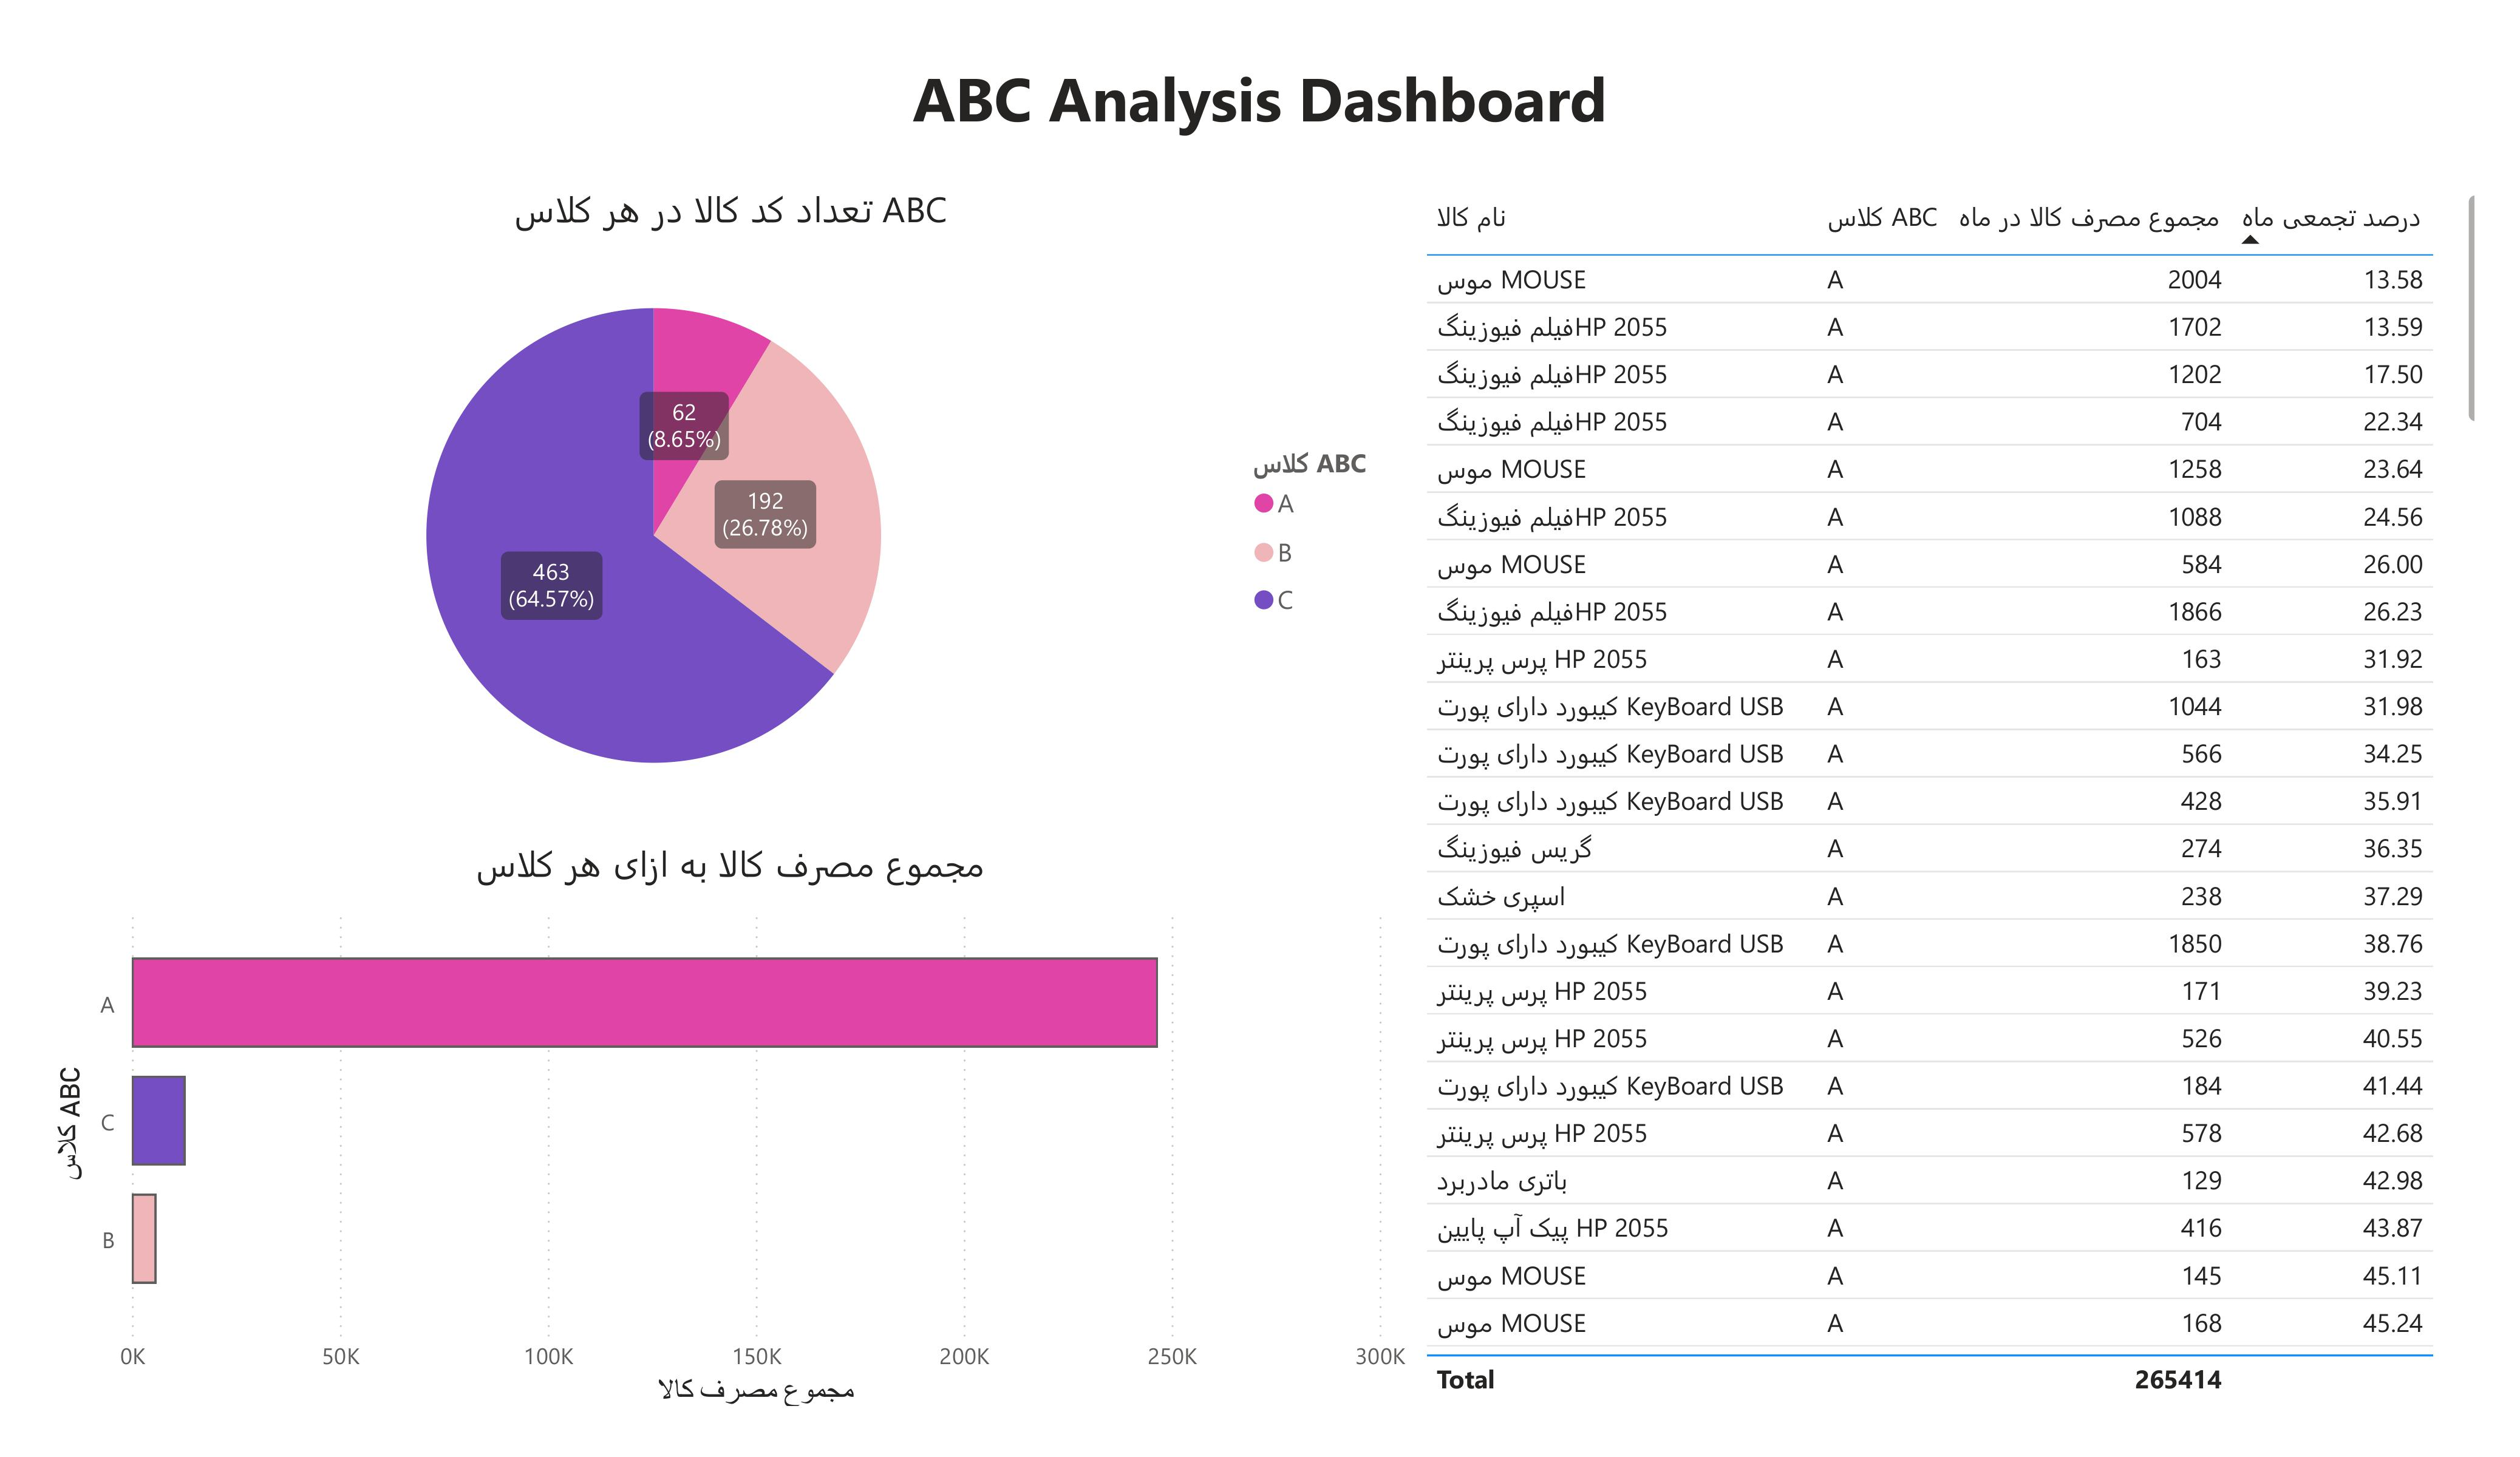

This screenshot's page, from the dashboard's own definition file:
{"tool":"powerbi","page":{"name":"ABC Analysis Dashboard","canvas":[1280,720],"ordinal":0},"visuals":[{"type":"textbox","box":[0,0,1280,56.7],"z":0},{"type":"pieChart","title":"تعداد کد کالا در هر کلاس ABC","fields":{"Category":["ABC_Analysis.کلاس ABC"],"Y":["Count(ABC_Analysis.کد کالا)"]},"box":[0,73.3,721.7,345],"z":1000},{"type":"clusteredBarChart","title":"مجموع مصرف کالا به ازای هر کلاس","fields":{"Category":["ABC_Analysis.کلاس ABC"],"Y":["Sum(ABC_Analysis.مجموع مصرف کالا در ماه)"]},"box":[0,418.3,721.7,303.3],"z":2000},{"type":"tableEx","fields":{"Values":["DimProduct.نام کالا","ABC_Analysis.کلاس ABC","Sum(ABC_Analysis.مجموع مصرف کالا در ماه)","ABC_Analysis.درصد تجمعی ماه"]},"box":[721.7,73.3,568.3,646.7],"z":3000}]}

Visuals, with their boxes on the page's 1280x720 design canvas (x1, y1, x2, y2). These are canvas units, not pixel positions in the 2520x1457 screenshot, which may show the page scaled, cropped or inside an application window:
textbox: 0, 0, 1280, 57
"تعداد کد کالا در هر کلاس ABC" pieChart: 0, 73, 722, 418
"مجموع مصرف کالا به ازای هر کلاس" clusteredBarChart: 0, 418, 722, 722
tableEx - DimProduct.نام کالا x ABC_Analysis.کلاس ABC: 722, 73, 1290, 720
